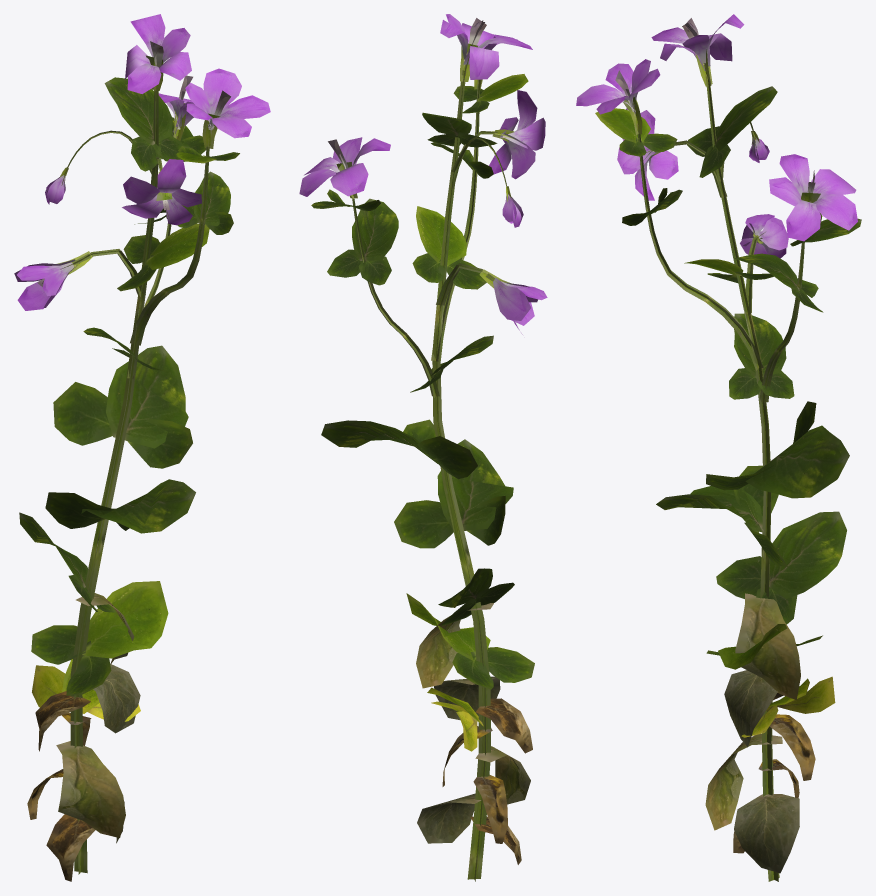
The model's file is Periwinkle_OG_normal_magenta.glb.
3 renders of one model, left to right at view 1: azimuth 30°, elevation 25°; view 2: azimuth 150°, elevation 25°; view 3: azimuth 270°, elevation 25°, orthographic. The views are drawn at different scales.
Parts seen in each view (by area): view 1: _419c_Var3_LOD1; view 2: _419c_Var3_LOD1; view 3: _419c_Var3_LOD1.
Boxes of the visible parts, x1=… form: _419c_Var3_LOD1: x1=14, y1=14, x2=270, y2=881; _419c_Var3_LOD1: x1=299, y1=14, x2=547, y2=881; _419c_Var3_LOD1: x1=576, y1=14, x2=861, y2=881.
Size of the model in its own units: 0.6129 by 2.19 by 0.6394.
Materials: 1 (1 with a texture image).
